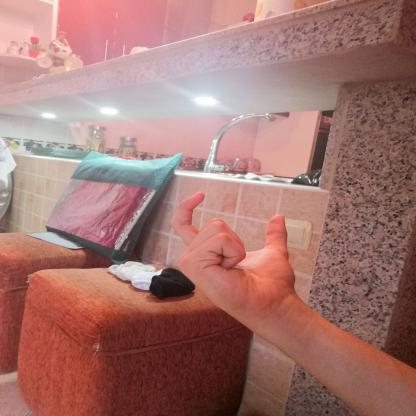NOON: (156, 182, 308, 328)
